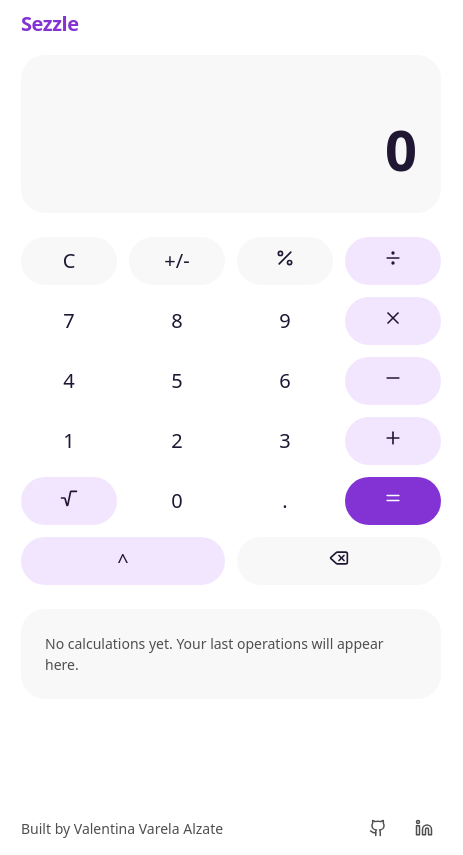
Test: App › keys are disabled while the request is in flight, except Clear
The width and height of the screenshot is (463, 855).
Click the button "2" at x=177, y=441, box [129,417,225,465]
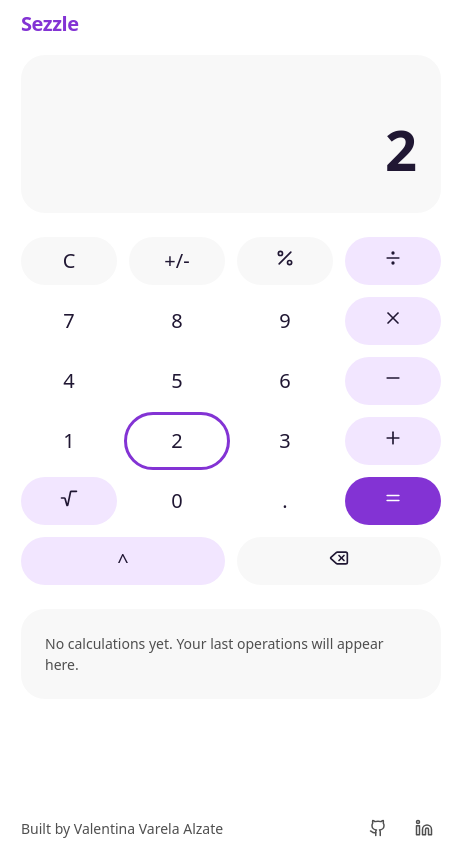
Click the button named "Add" at x=393, y=441, box [345,417,441,465]
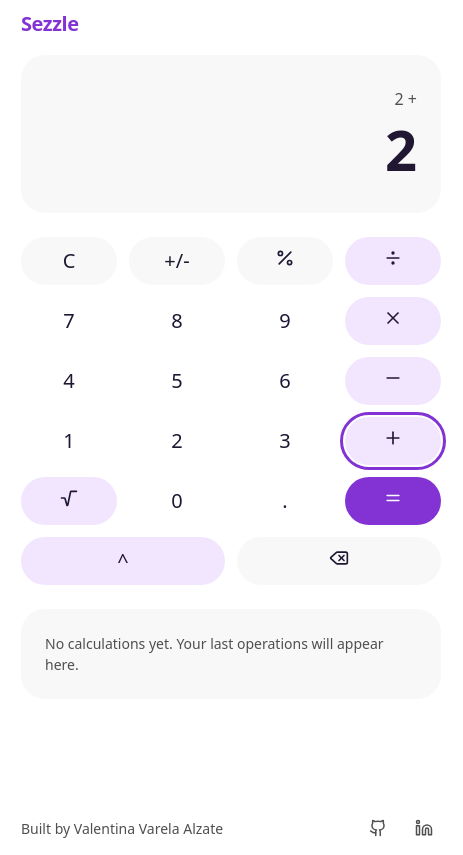
Click the button "3" at x=285, y=441, box [237,417,333,465]
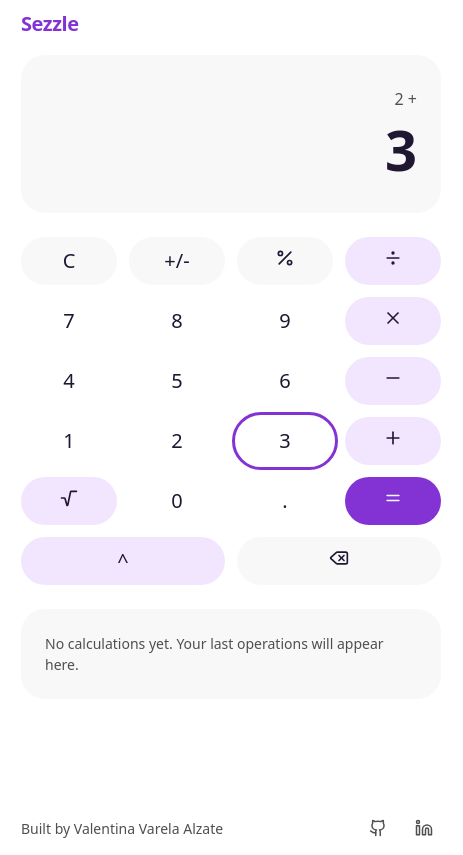
Click the button named "Equals" at x=393, y=501, box [345,477,441,525]
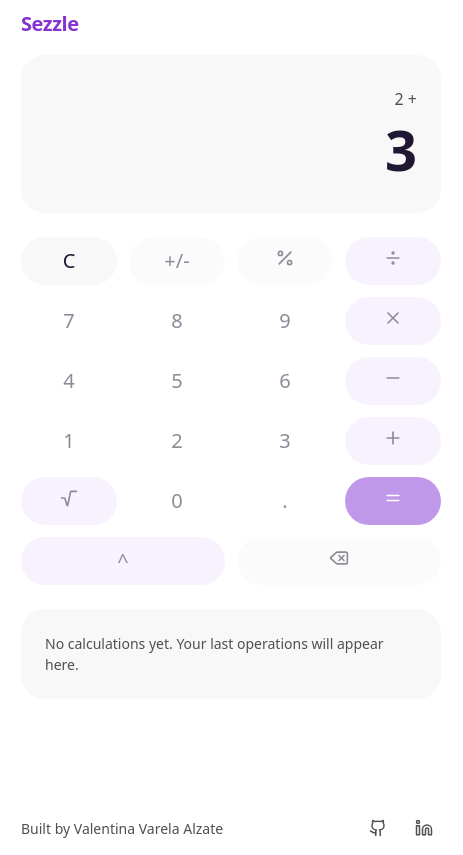
Expected: the button named "Add" is disabled, [345,417,441,465]
Click the button named "Clear" at x=69, y=261, box [21,237,117,285]
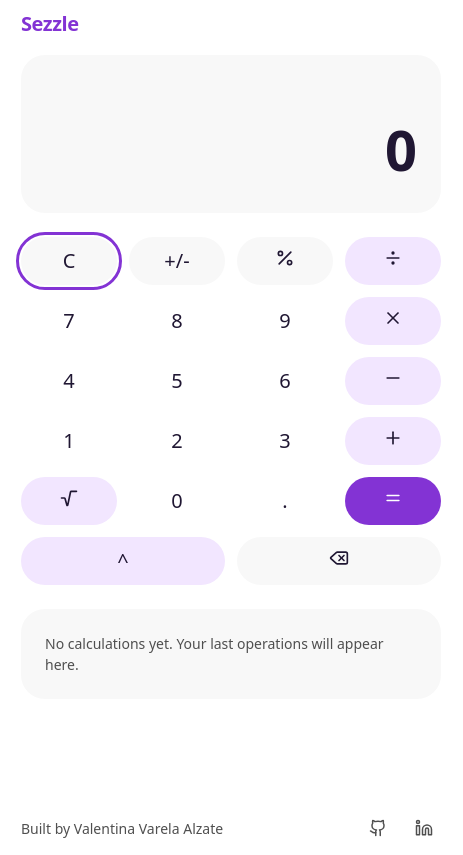
Expected: the button named "Add" is enabled, [345,417,441,465]
